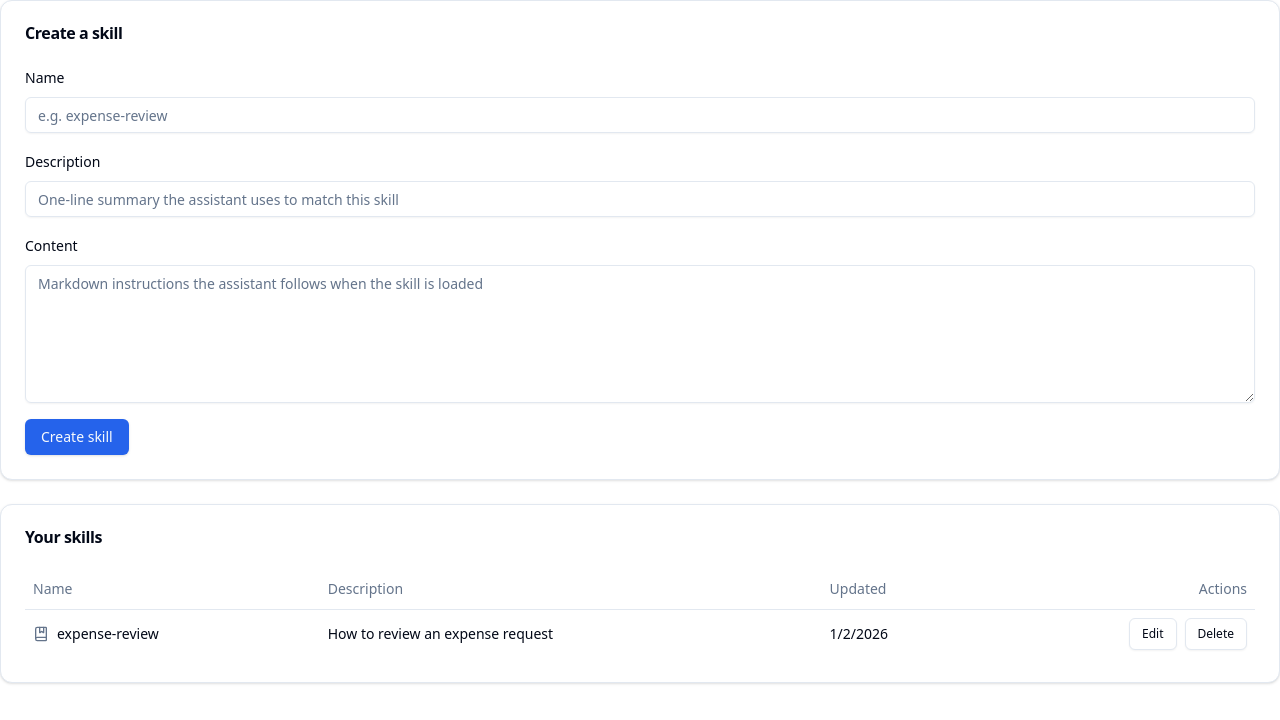
Scenario: SkillsPanel › rejects a duplicate name with the existing-name message
Expected: the text "expense-review" is shown, [33,624,159,642]
Type "expense-review" into the field labelled "Name" at {"x": 640, "y": 115}, box [25,97,1255,133]
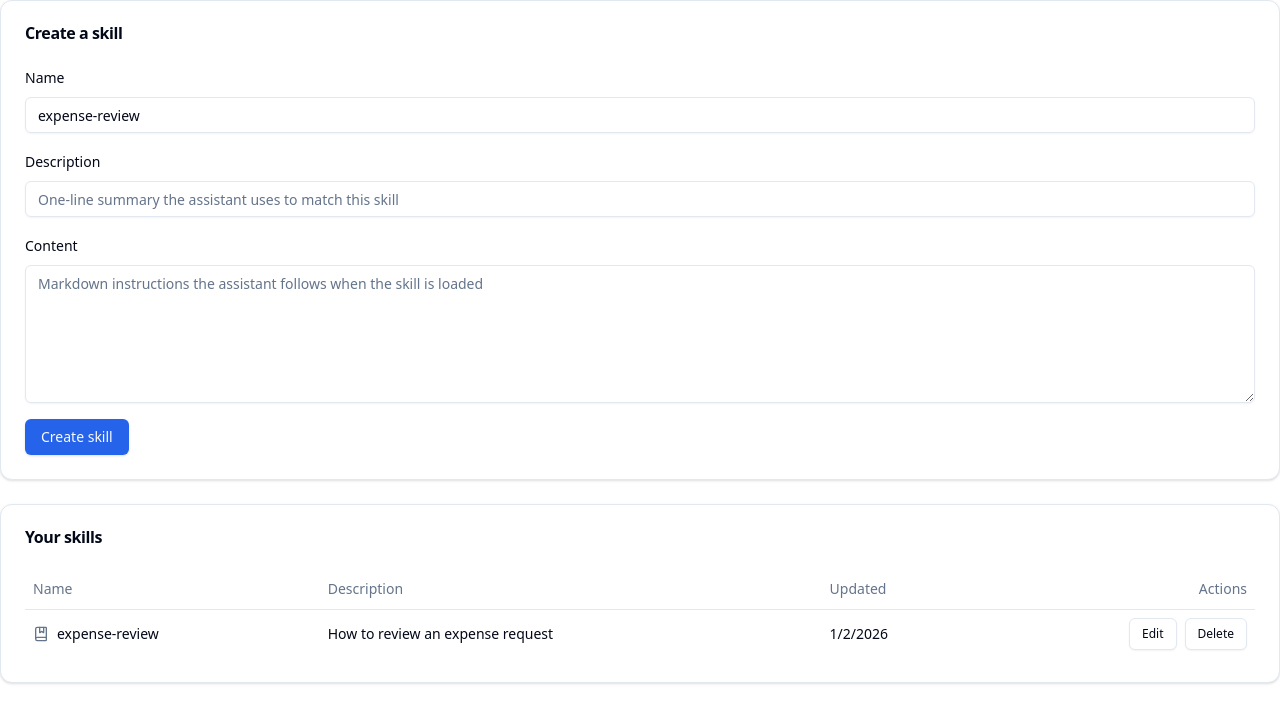
Type "Another review" into the field labelled "Description" at {"x": 640, "y": 199}, box [25,181,1255,217]
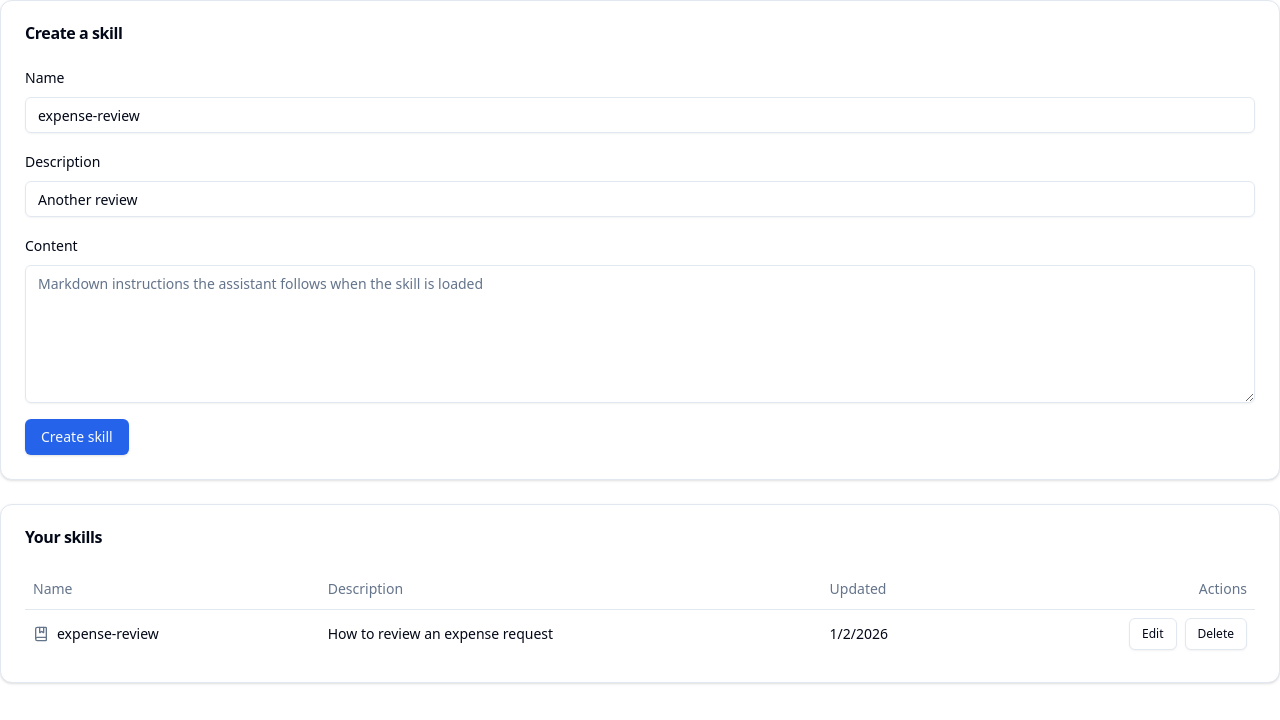
Replace the text in the text box labelled "Content" with "step one" at {"x": 640, "y": 334}, box [25,265,1255,403]
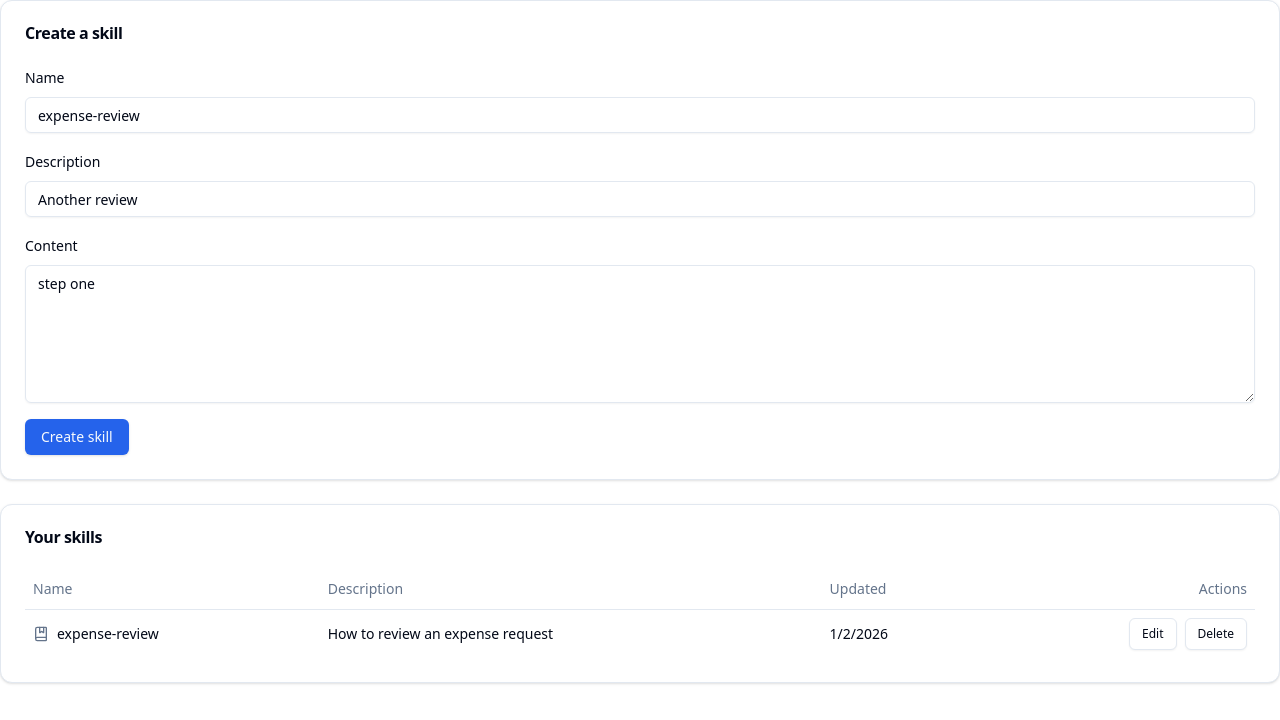
Click the button "Create skill" at {"x": 77, "y": 437}, box [25,419,129,455]
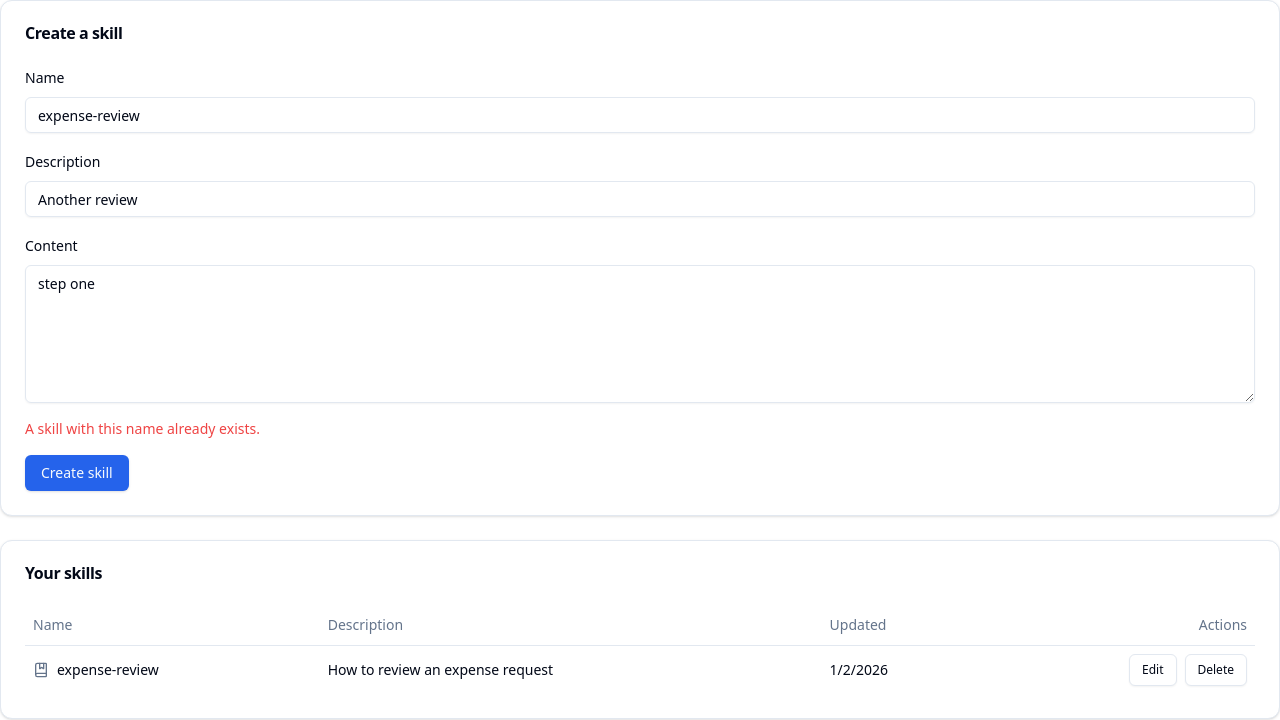
Now the text "A skill with this name already exists." is shown, box [25,419,260,438]
